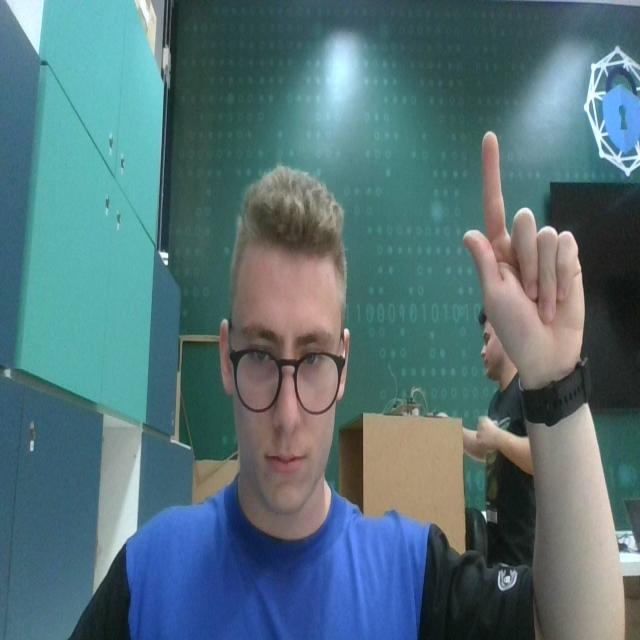G: (464, 128, 588, 373)
